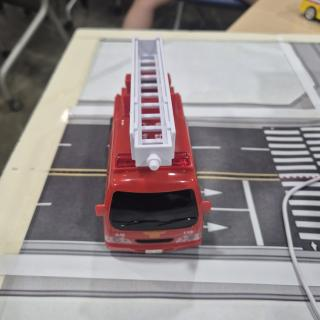Fire_truck: (95, 36, 211, 253)
